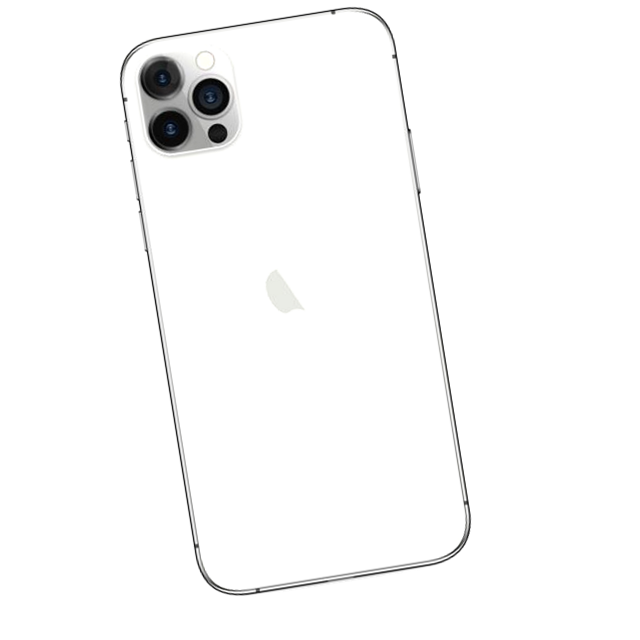iphone_12pro_silver: (99, 3, 488, 597), (131, 44, 258, 159)
